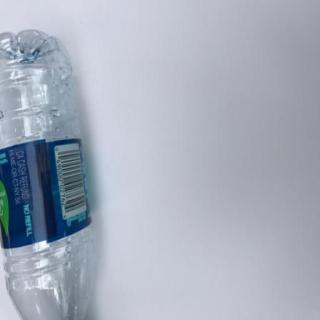Plastic-bottle: (1, 29, 99, 320)
